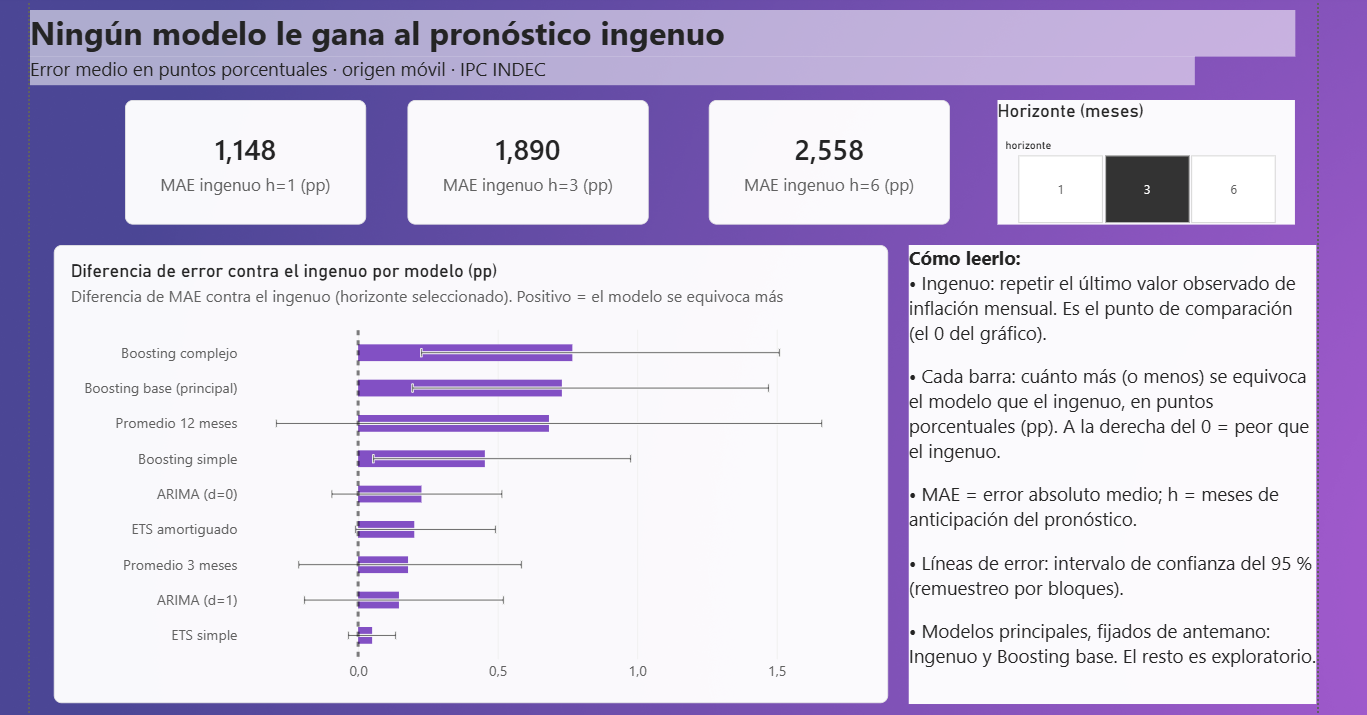

Layout of this report page (visuals, bound fields, positions):
{"tool":"powerbi","page":{"name":"Resultado","canvas":[1280,720],"ordinal":0},"visuals":[{"type":"textbox","box":[0,10,1258.9,46],"z":0},{"type":"textbox","box":[0,56,1159.4,28.6],"z":1000},{"type":"slicer","title":"Horizonte (meses)","fields":{"Values":["dim_horizonte.horizonte"]},"box":[962.8,99.5,296.1,124.4],"z":2000},{"type":"card","fields":{"Values":["Medidas.MAE ingenuo h=1 (pp)"]},"box":[94.5,99.5,240,124],"z":3000},{"type":"card","fields":{"Values":["Medidas.MAE ingenuo h=3 (pp)"]},"box":[375.7,99.5,240,124],"z":4000},{"type":"card","fields":{"Values":["Medidas.MAE ingenuo h=6 (pp)"]},"box":[675.5,99.5,240,124],"z":5000},{"type":"clusteredBarChart","title":"Diferencia de error contra el ingenuo por modelo (pp)","fields":{"Category":["inflacion modelos.Nombre del modelo"],"Y":["Medidas.Diferencia vs ingenuo (pp)"]},"box":[24,244,830,456],"z":6000},{"type":"textbox","box":[874.5,243.8,405.5,456.5],"z":7000}]}

Visuals, with their boxes in screenshot pixels (x1, y1, x2, y2):
textbox: bbox=[18, 3, 1297, 50]
textbox: bbox=[18, 50, 1196, 79]
"Horizonte (meses)" slicer: bbox=[996, 94, 1297, 220]
card - Medidas.MAE ingenuo h=1 (pp): bbox=[114, 94, 358, 220]
card - Medidas.MAE ingenuo h=3 (pp): bbox=[400, 94, 643, 220]
card - Medidas.MAE ingenuo h=6 (pp): bbox=[704, 94, 948, 220]
"Diferencia de error contra el ingenuo por modelo (pp)" clusteredBarChart: bbox=[42, 241, 886, 704]
textbox: bbox=[906, 241, 1318, 704]
